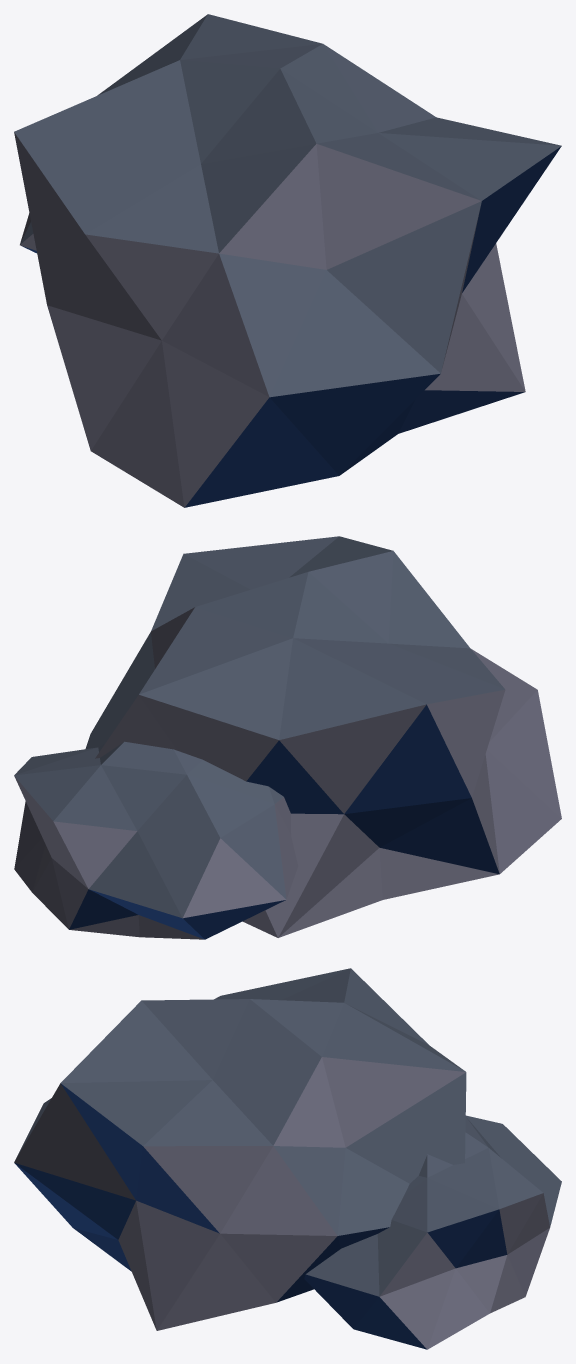
Rendered from Rock_Night.obj.
3 renders of one model, top to bottom at view 1: azimuth 30°, elevation 25°; view 2: azimuth 150°, elevation 25°; view 3: azimuth 270°, elevation 25°, orthographic. The views are drawn at different scales.
Visible parts, largest first — view 1: Rock_Night; view 2: Rock_Night; view 3: Rock_Night.
Boxes of the visible parts, box(x1,y1,x2,y2) form: Rock_Night: box(14, 14, 561, 507); Rock_Night: box(14, 536, 561, 939); Rock_Night: box(14, 968, 561, 1349).
Bounding box in the file's own units: 3.06 × 2.06 × 3.94.
Materials: 1 (1 with a texture image).
